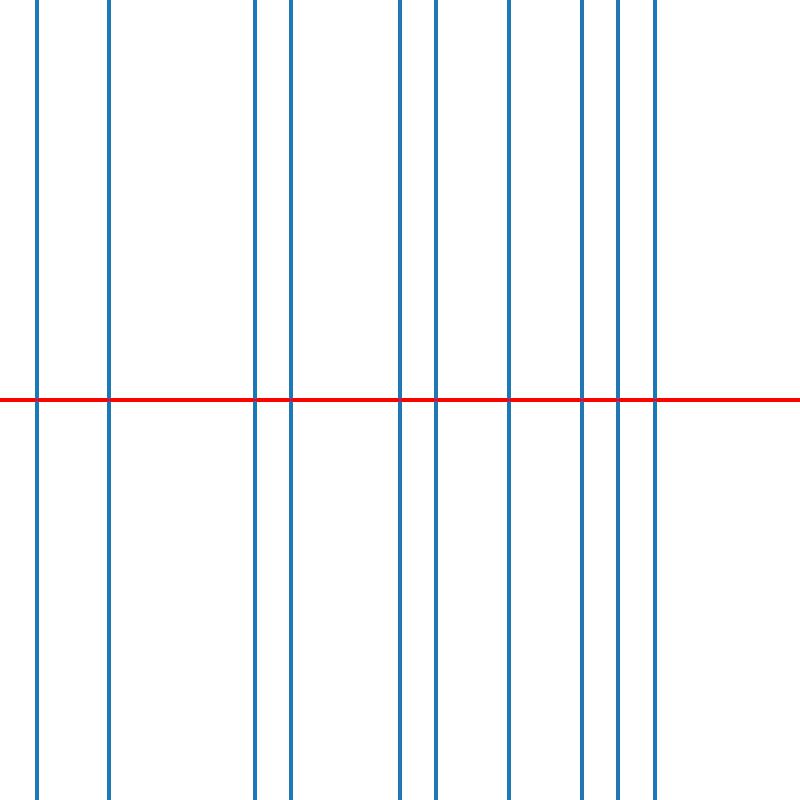root: (432, 396, 440, 404), (32, 396, 40, 404), (250, 396, 258, 404), (650, 396, 658, 404), (578, 396, 585, 404), (396, 396, 403, 404), (105, 396, 112, 404), (287, 396, 294, 404), (505, 396, 512, 404), (614, 396, 621, 404)
